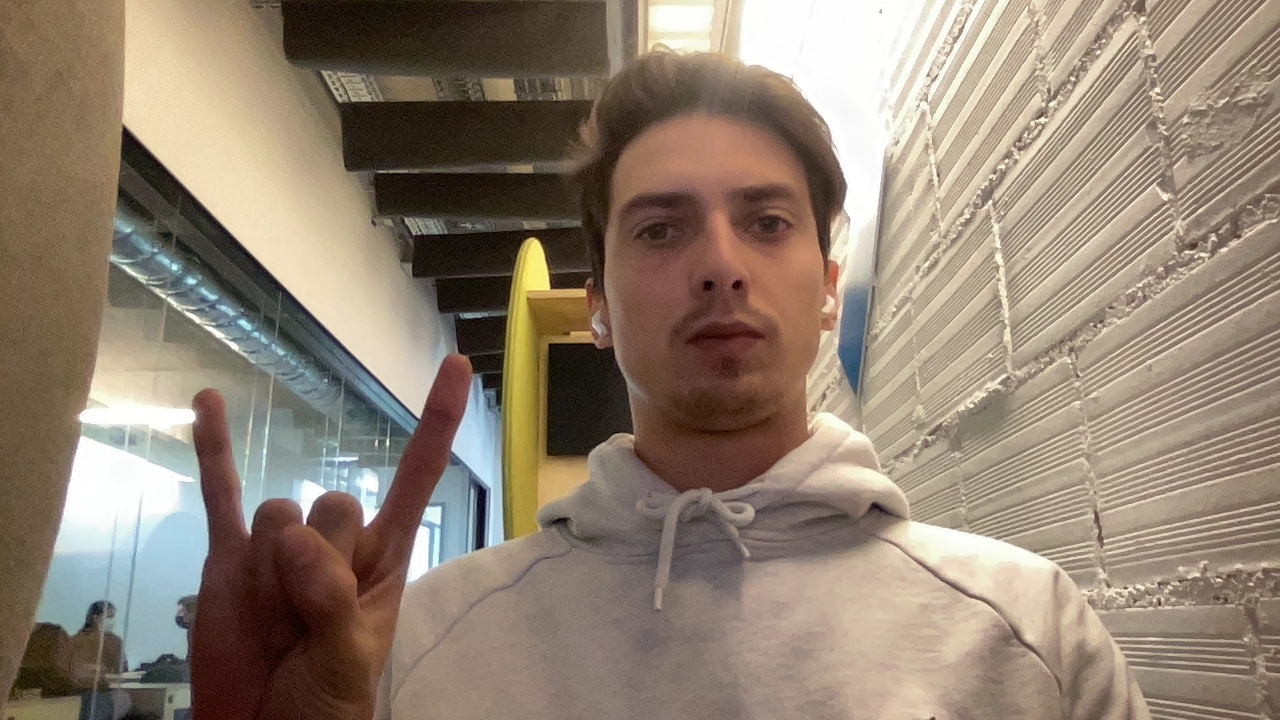iloveyou: (136, 347, 486, 717)
